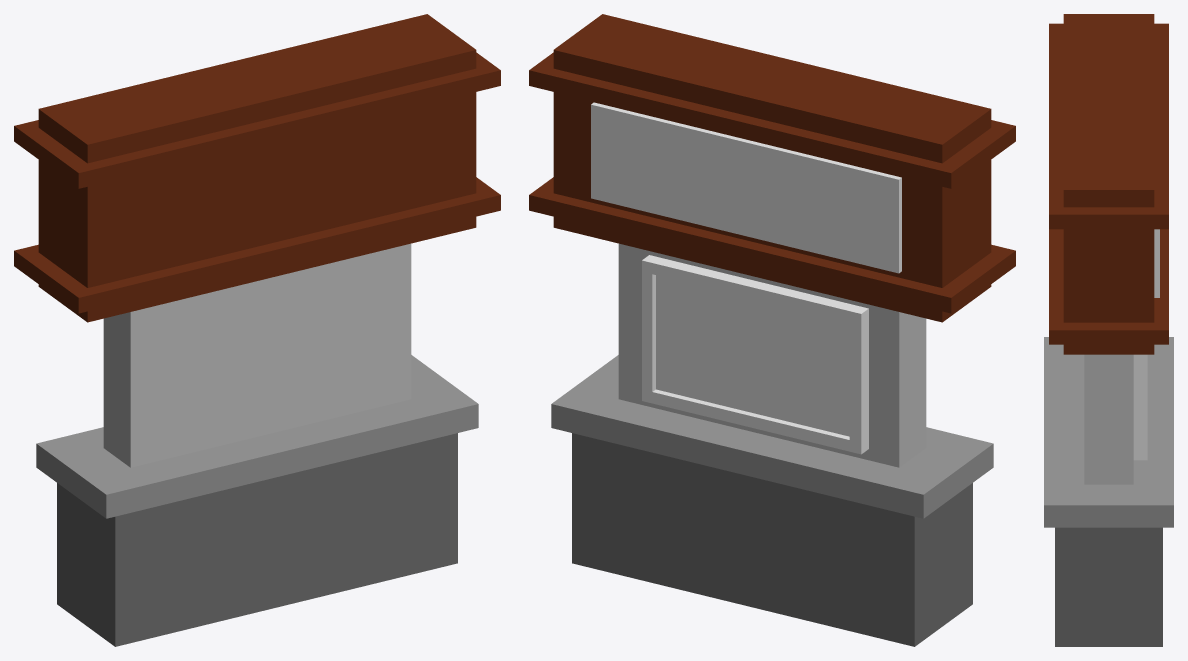
The model's file is ZipaquiraLetrero.glb.
The picture shows the model from 3 angles, left to right: view 1: azimuth 30°, elevation 25°; view 2: azimuth 150°, elevation 25°; view 3: azimuth 270°, elevation 25°; orthographic projection. The views are drawn at different scales.
Visible parts, largest first — view 1: Cube.446, Cube.448, Cube.447; view 2: Cube.448, Cube.446, Cube.445, Cube.444, Cube.447; view 3: Cube.446, Cube.448, Cube.447, Cube.445, Cube.444.
Boxes of the visible parts, <box> form: Cube.446: <box>14,14,500,322</box>; Cube.448: <box>36,355,478,646</box>; Cube.447: <box>103,243,411,467</box>; Cube.448: <box>551,355,993,646</box>; Cube.446: <box>529,14,1015,322</box>; Cube.445: <box>642,255,868,454</box>; Cube.444: <box>591,102,901,273</box>; Cube.447: <box>618,243,926,467</box>; Cube.446: <box>1049,14,1168,354</box>; Cube.448: <box>1044,337,1173,646</box>; Cube.447: <box>1084,354,1133,484</box>; Cube.445: <box>1133,354,1147,460</box>; Cube.444: <box>1154,229,1159,297</box>.
Size of the model in its own units: 1.66 by 1.9 by 0.4779.
